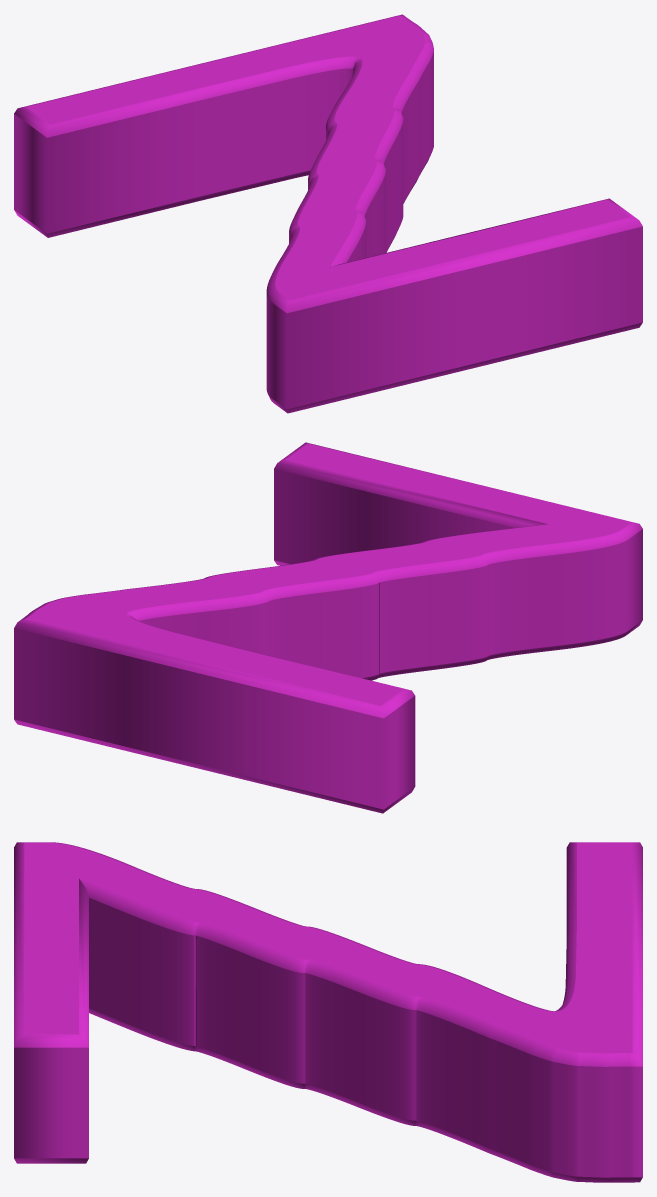
File: Blocky_LetterZ.fbx
3 renders of one model, top to bottom at view 1: azimuth 30°, elevation 25°; view 2: azimuth 150°, elevation 25°; view 3: azimuth 270°, elevation 25°, orthographic. The views are drawn at different scales.
Parts seen in each view (by area): view 1: BlockyLetter_Z; view 2: BlockyLetter_Z; view 3: BlockyLetter_Z.
Boxes of the visible parts, x1=… form: BlockyLetter_Z: x1=14, y1=14, x2=642, y2=413; BlockyLetter_Z: x1=14, y1=442, x2=642, y2=813; BlockyLetter_Z: x1=14, y1=842, x2=642, y2=1182.
Bounding box in the file's own units: 0.5101 × 0.14 × 0.618.
